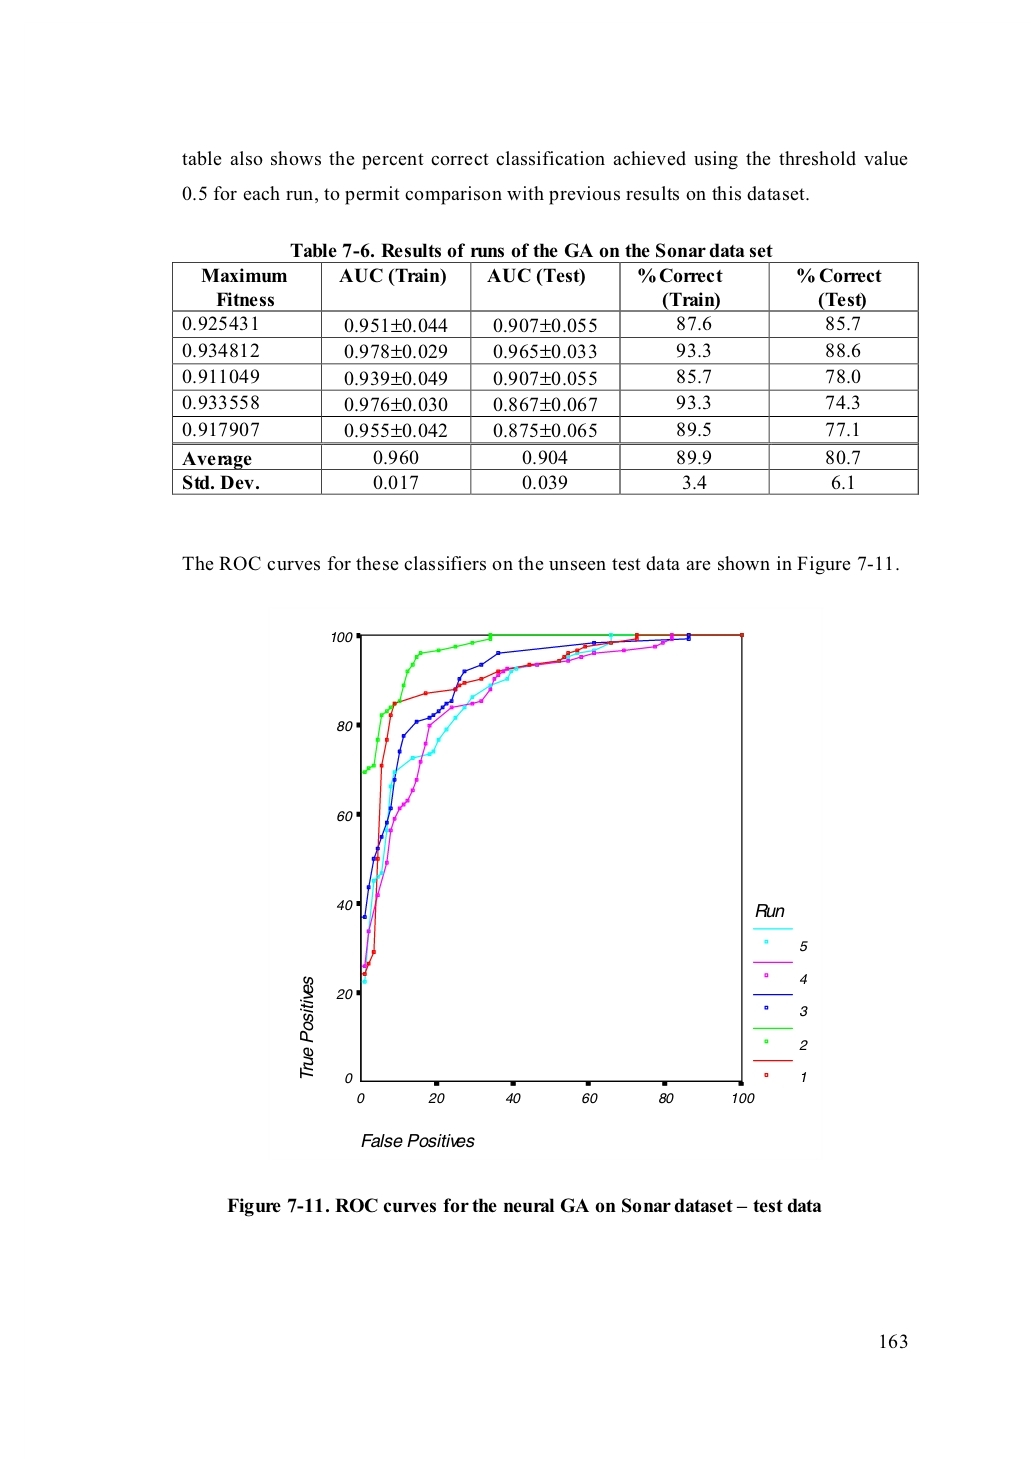Table: (172, 261, 918, 495)
figure: (300, 632, 807, 1147)
